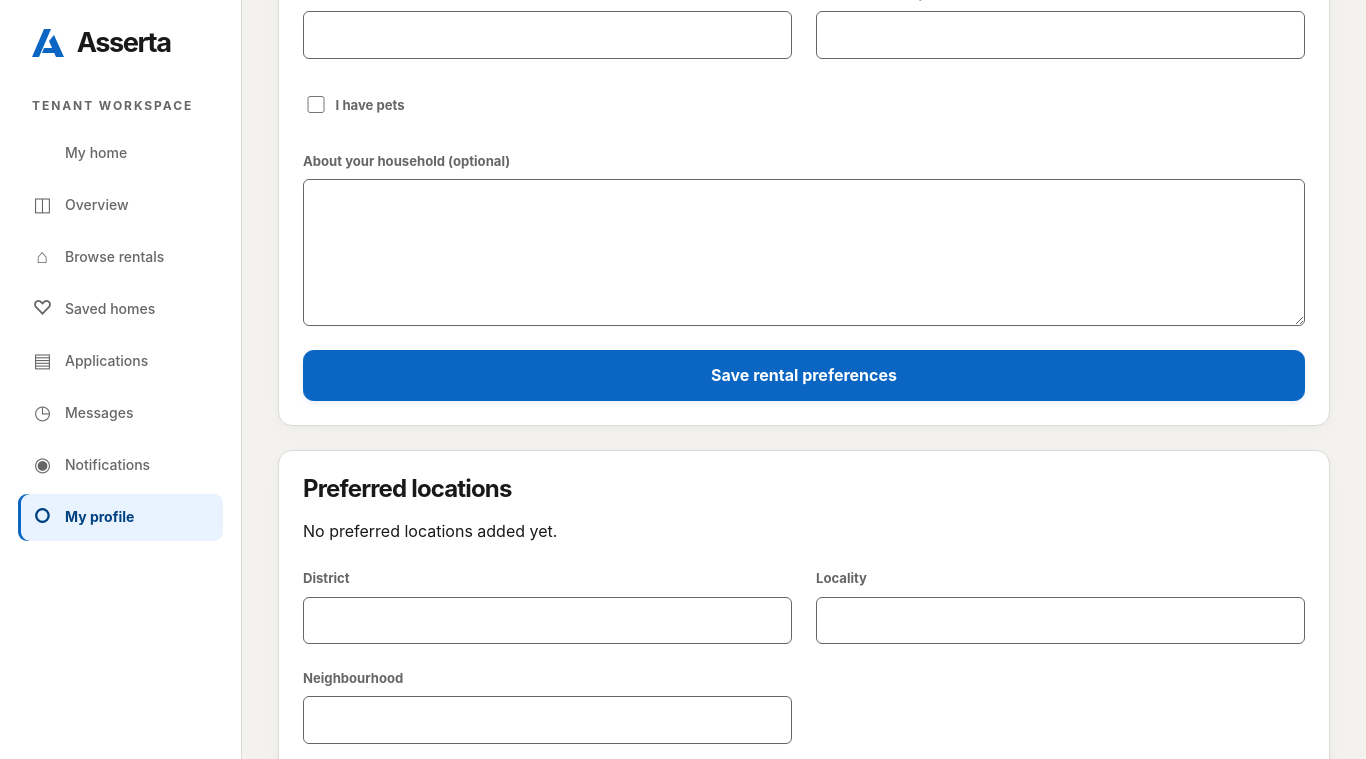
Test case: tenant profile page › displays server validation errors clearly
The width and height of the screenshot is (1366, 759).
(page scrolled)
Click the button "Save rental preferences" at x=804, y=375, box x1=303 y1=350 x2=1305 y2=401
(page scrolled)
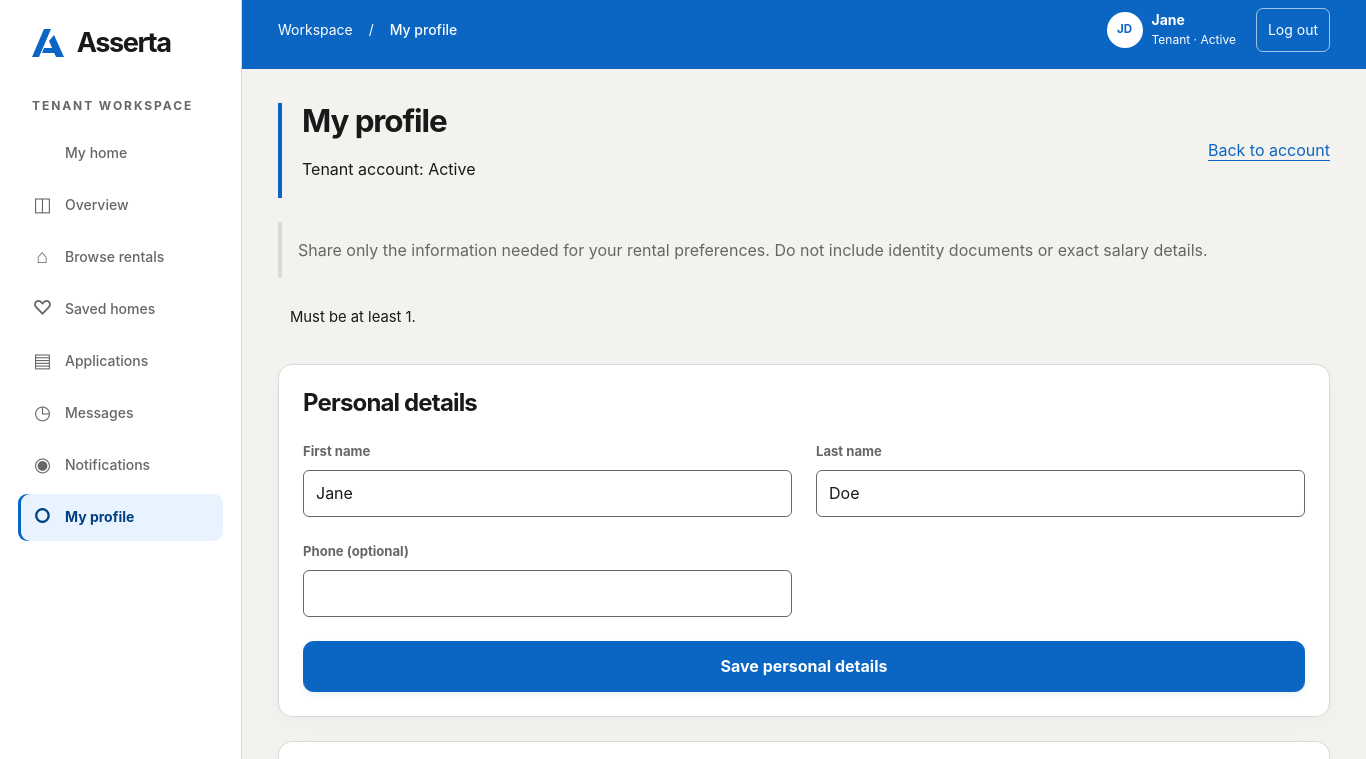
Check: the text "Must be at least 1." is shown, box x1=278 y1=294 x2=1330 y2=340
